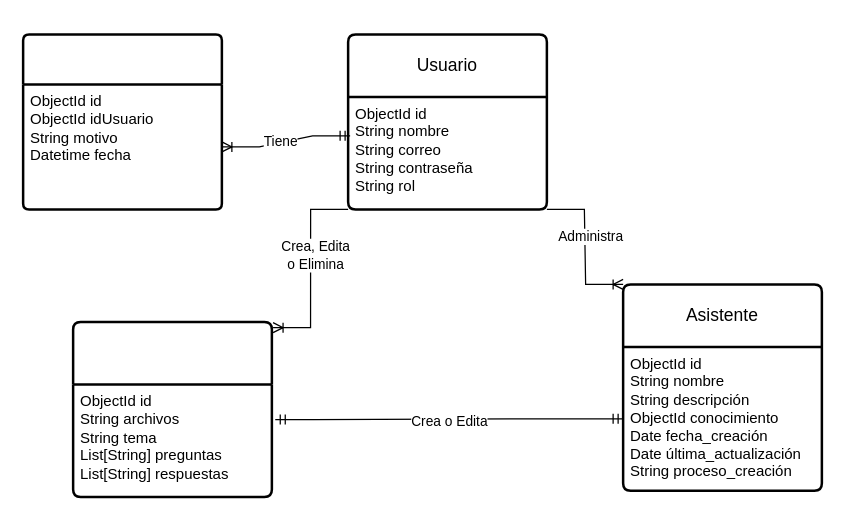
The diagram is 844 pixels wide and 520 high, and some of its shapes have lost their labels. The box of each missing label's shape, as (x1, y1, x2, y2) in pixels:
Conocimiento: (71, 320, 272, 498)
Logs: (21, 32, 222, 210)
